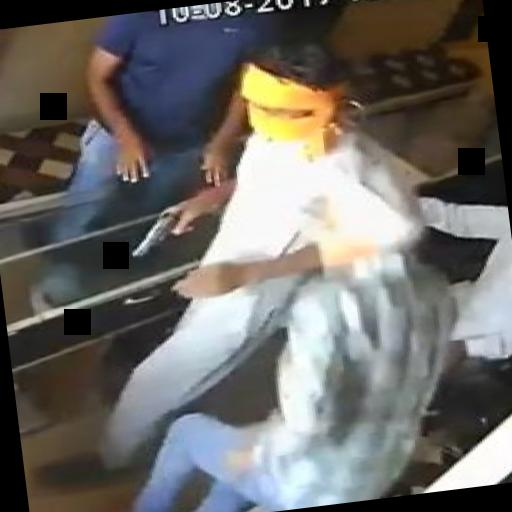Handgun: (120, 200, 210, 260)
